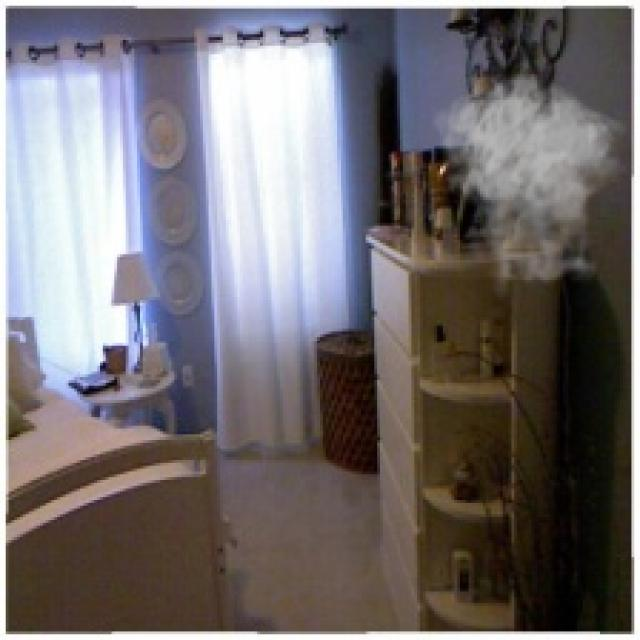smoke: (432, 71, 632, 300)
